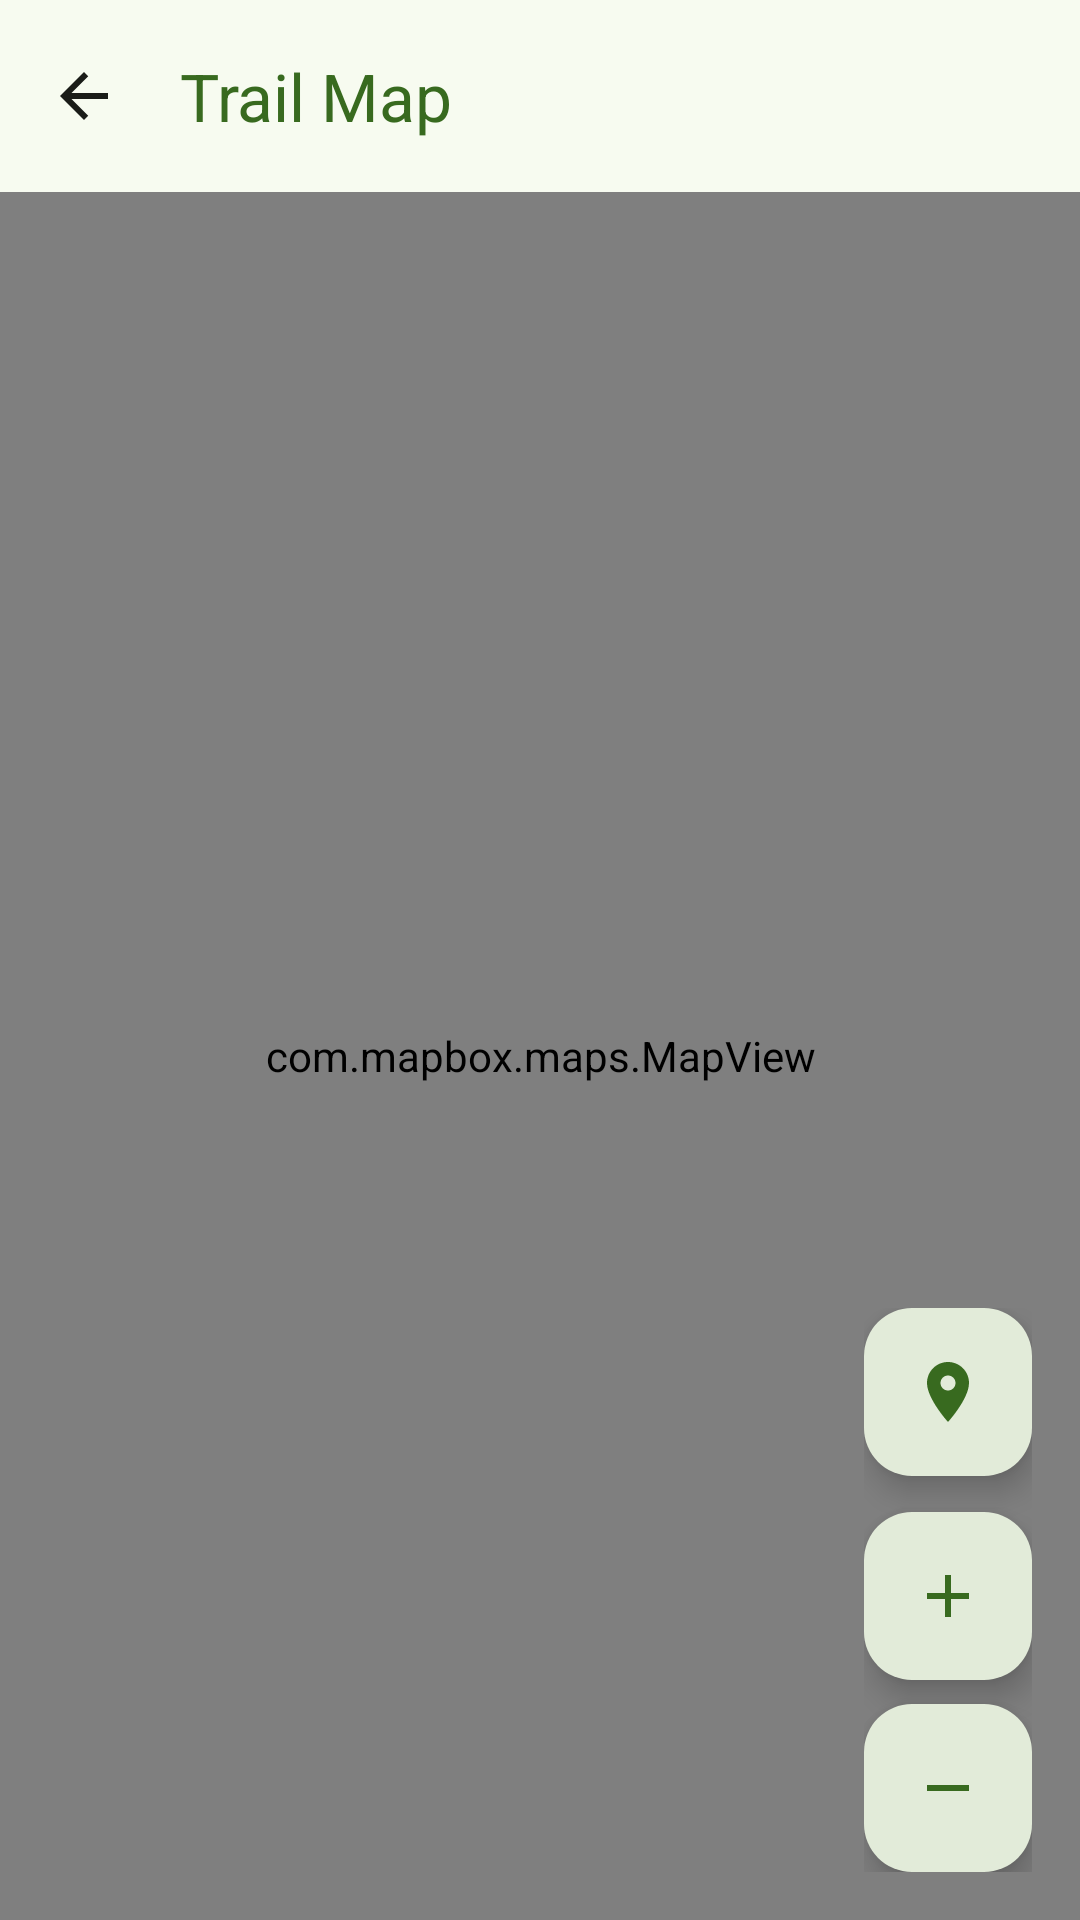

Icons on this 1080px x 1920px Android screen, each with its box as Rect(x1, y1, x2, y2):
Recenter Hike: Rect(864, 1308, 1032, 1476)
Zoom In: Rect(864, 1512, 1032, 1680)
Zoom Out: Rect(864, 1704, 1032, 1872)
